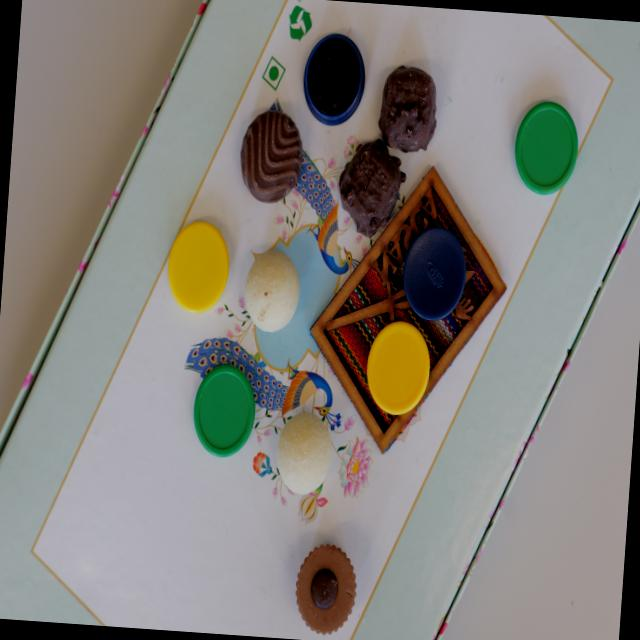Comtesse: (272, 409, 332, 498), (242, 250, 302, 334)
Noblesse: (290, 542, 360, 636)
Stracciatella: (238, 108, 304, 202)
Tentation_noir: (335, 142, 405, 238), (376, 62, 438, 154)
